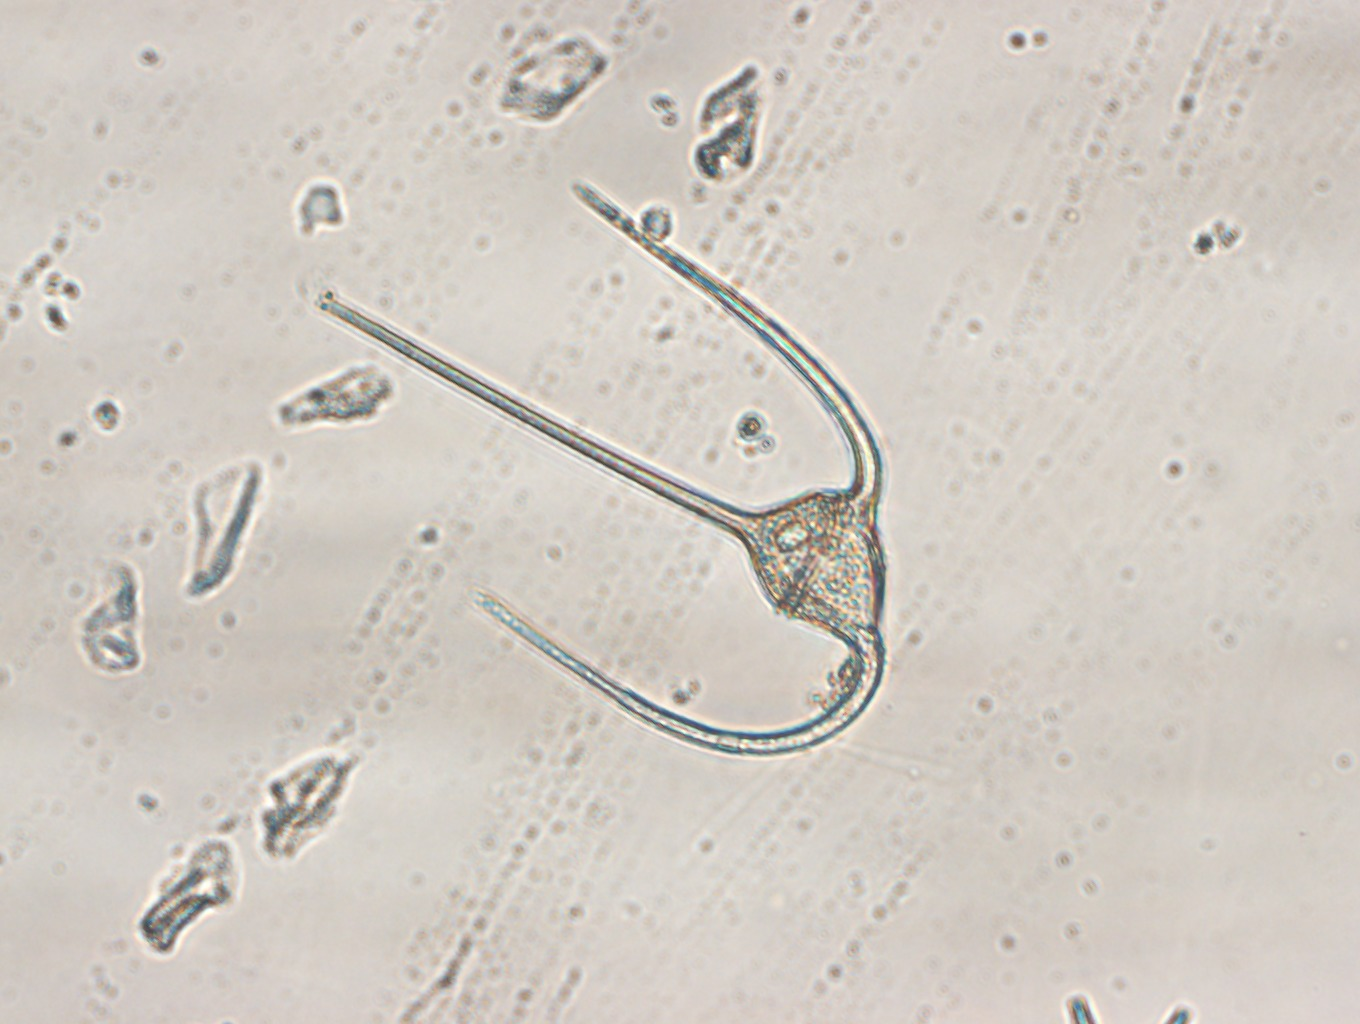ceratium trichoceros: (305, 175, 892, 766)
